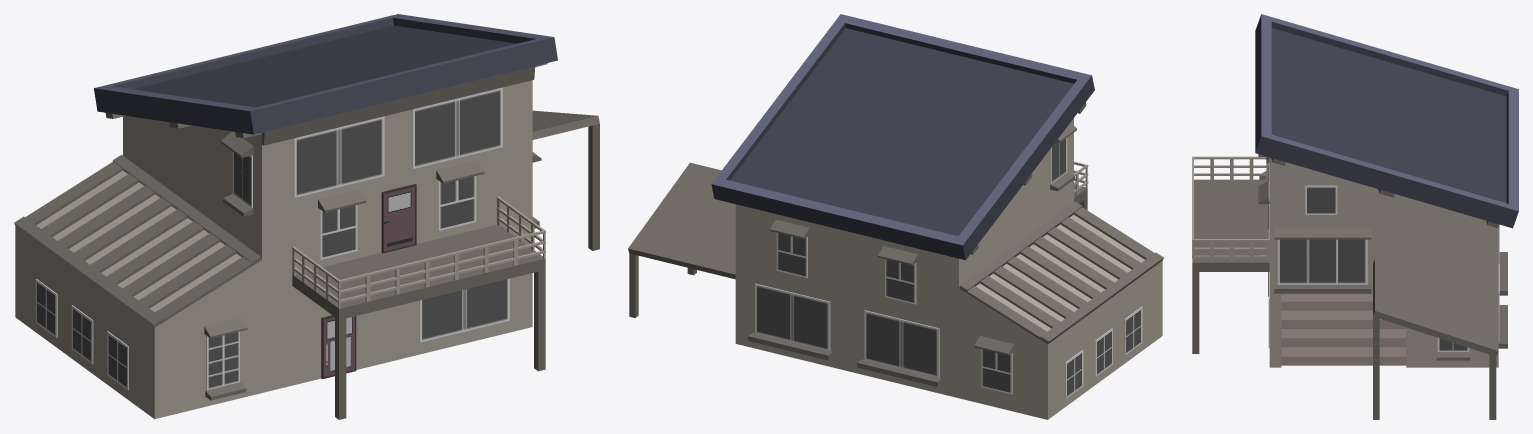
The model's file is house09_color01.fbx.
3 renders of one model, left to right at view 1: azimuth 30°, elevation 25°; view 2: azimuth 150°, elevation 25°; view 3: azimuth 270°, elevation 25°, orthographic. The views are drawn at different scales.
Visible parts, largest first — view 1: Cube.108, Cube.116; view 2: Cube.108, Cube.116; view 3: Cube.108, Cube.116.
Boxes of the visible parts, bbox=[...] form: Cube.108: bbox=[14, 14, 557, 419]; Cube.116: bbox=[532, 110, 599, 250]; Cube.108: bbox=[711, 14, 1163, 419]; Cube.116: bbox=[628, 162, 735, 317]; Cube.108: bbox=[1192, 14, 1518, 367]; Cube.116: bbox=[1373, 258, 1498, 419].
Bounding box in the file's own units: 1891 × 1027 × 1277.
